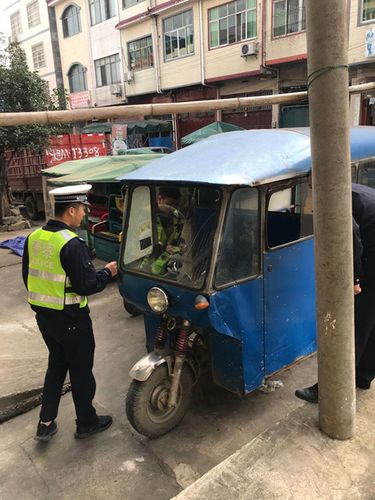driver: (102, 100, 365, 436)
